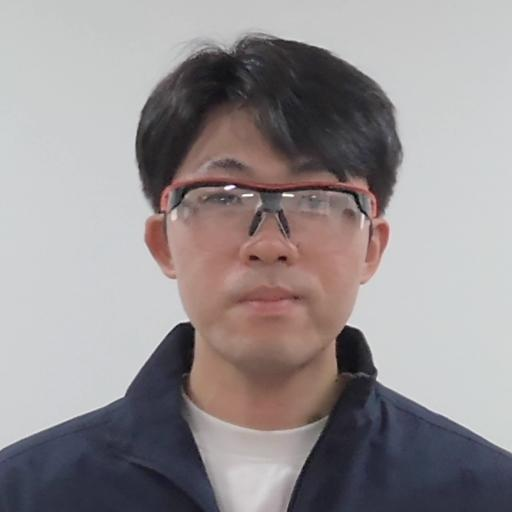glasses: (126, 34, 415, 374)
